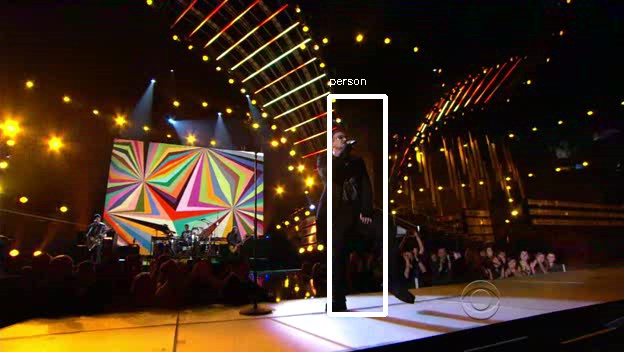person: (315, 132, 383, 249), (312, 132, 380, 249), (318, 132, 386, 249), (315, 129, 383, 246), (315, 135, 383, 252)
target_negative: (197, 55, 545, 112), (510, 106, 621, 230), (441, 47, 461, 137), (431, 314, 475, 351), (548, 234, 566, 320), (509, 49, 511, 211)
